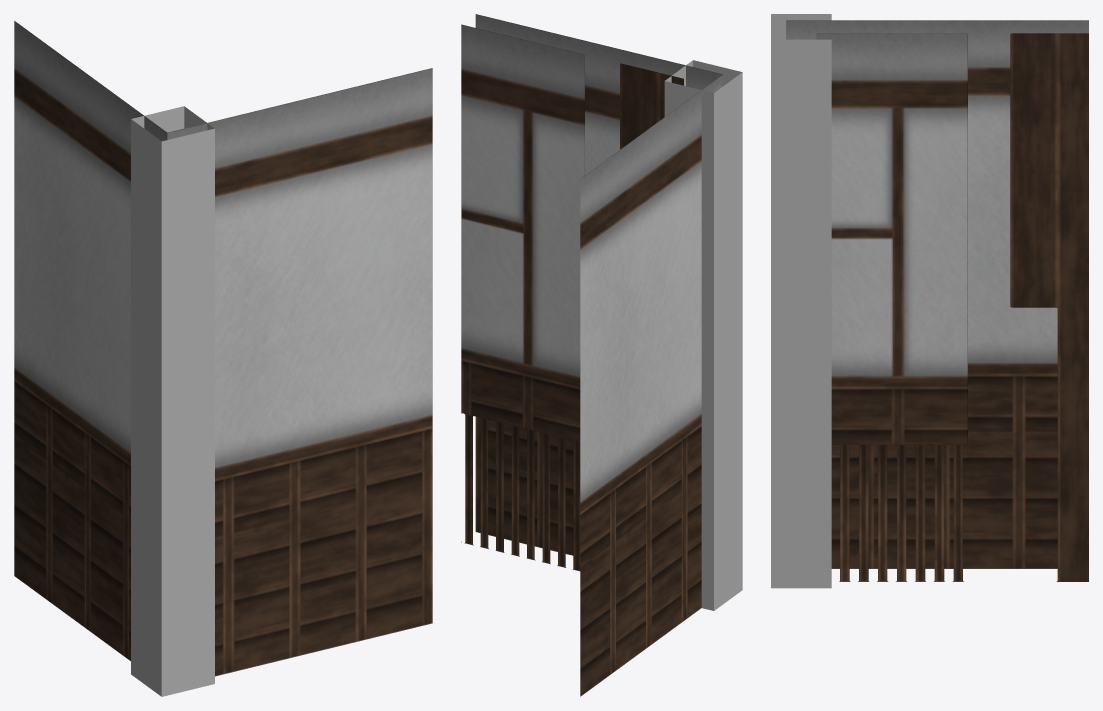
The model's file is house_corner_2.fbx.
The picture shows the model from 3 angles, left to right: view 1: azimuth 30°, elevation 25°; view 2: azimuth 150°, elevation 25°; view 3: azimuth 270°, elevation 25°; orthographic projection. The views are drawn at different scales.
Parts seen in each view (by area): view 1: house_corner_2; view 2: house_corner_2; view 3: house_corner_2.
Boxes of the visible parts, x1,y1,x2,y2 form: house_corner_2: [14, 21, 432, 696]; house_corner_2: [461, 14, 742, 696]; house_corner_2: [771, 14, 1088, 588].
Bounding box in the file's own units: 210 × 400 × 210.
